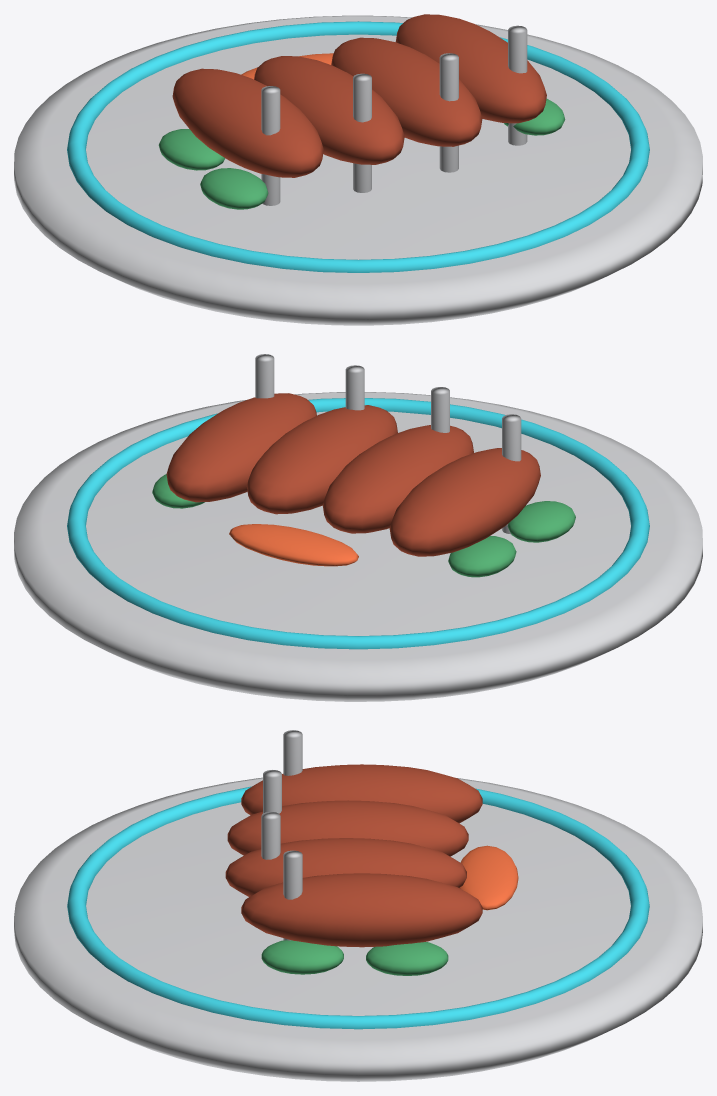
Rendered from lamb-chops.glb.
3 renders of one model, top to bottom at view 1: azimuth 30°, elevation 25°; view 2: azimuth 150°, elevation 25°; view 3: azimuth 270°, elevation 25°, orthographic.
Parts seen in each view (by area): view 1: plate, lamb-chop (×4), plate-rim, bone (×4), greens (×3); view 2: plate, lamb-chop (×4), plate-rim, greens (×3), sauce, bone (×4); view 3: plate, lamb-chop (×4), plate-rim, greens (×2), bone (×4), sauce.
Part boxes in pixels (x1,y1,x2,y2): plate: (14,15,702,325); lamb-chop (×4): (172,14,546,177); plate-rim: (67,21,649,272); bone (×4): (261,25,527,205); greens (×3): (158,98,565,209); plate: (14,392,702,701); lamb-chop (×4): (166,393,540,556); plate-rim: (67,398,649,649); greens (×3): (152,474,575,577); sauce: (229,524,358,566); bone (×4): (255,354,521,534); plate: (14,777,702,1081); lamb-chop (×4): (225,764,482,947); plate-rim: (67,786,649,1029); greens (×2): (261,940,448,975); bone (×4): (261,730,302,940); sauce: (459,845,518,910).
Bounding box in the file's own units: 3.96 × 0.97 × 3.96.
